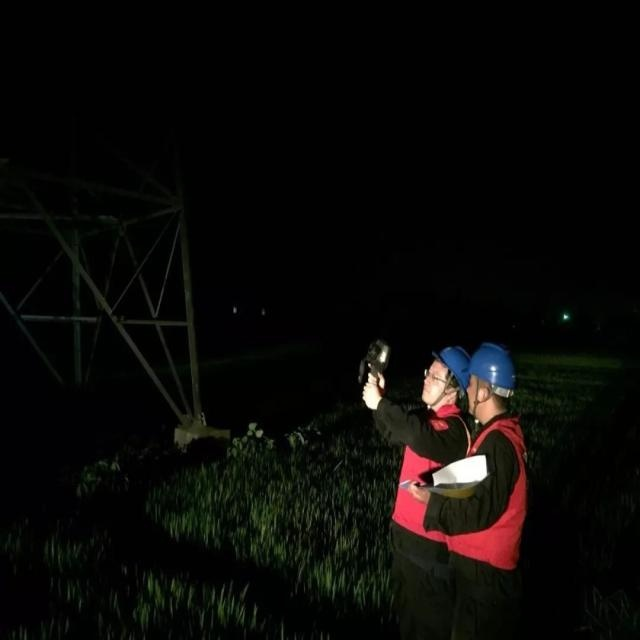Con_Casco: (467, 345, 513, 415), (423, 347, 470, 405)
